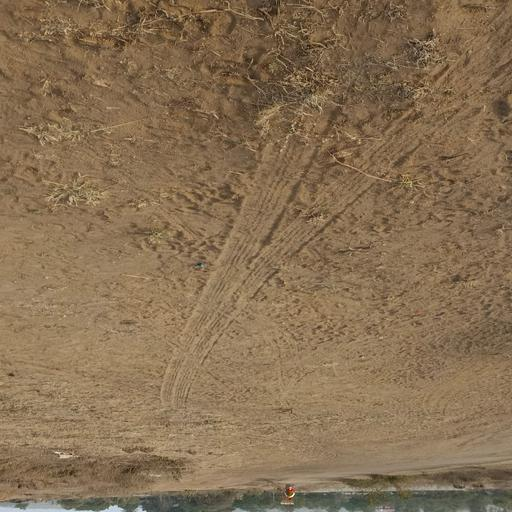vehicle_track: (158, 0, 512, 416)
